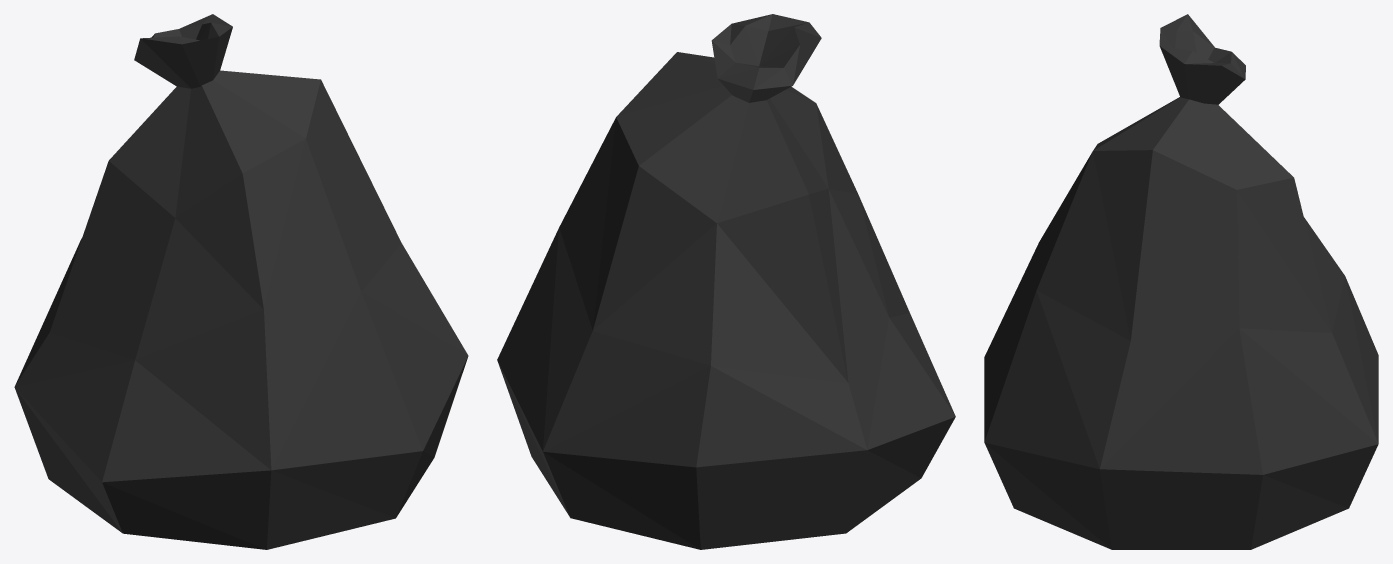
Rendered from Waste_01.FBX.
The picture shows the model from 3 angles, left to right: view 1: azimuth 30°, elevation 25°; view 2: azimuth 150°, elevation 25°; view 3: azimuth 270°, elevation 25°; orthographic projection. The views are drawn at different scales.
Parts seen in each view (by area): view 1: Waste_01; view 2: Waste_01; view 3: Waste_01.
Boxes of the visible parts, box(x1,y1,x2,y2) form: Waste_01: box(14, 14, 468, 549); Waste_01: box(497, 14, 955, 549); Waste_01: box(984, 14, 1378, 549).
Size of the model in its own units: 0.6026 by 0.753 by 0.6026.
